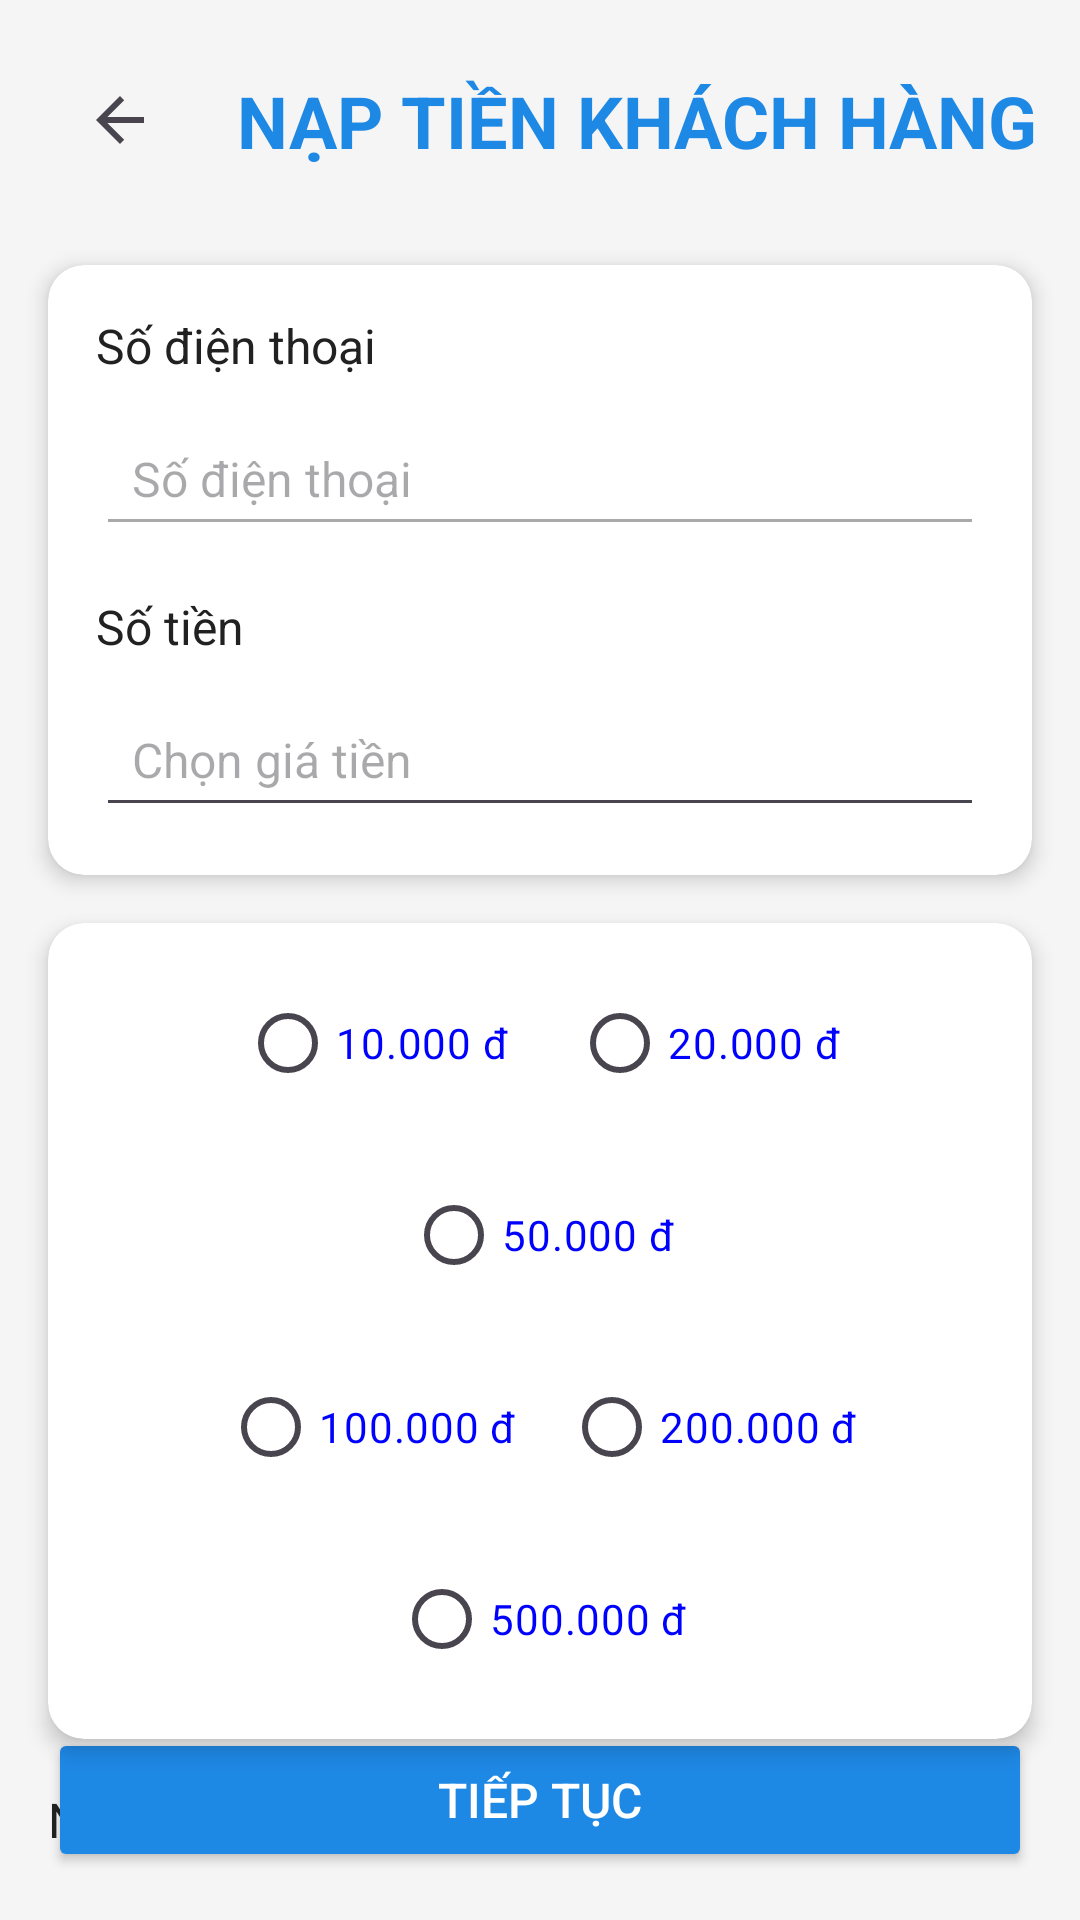

Screen size 1080px x 1920px. Icon name, then its center in pixels as point (x, y):
Nút quay lại: point (120, 120)
